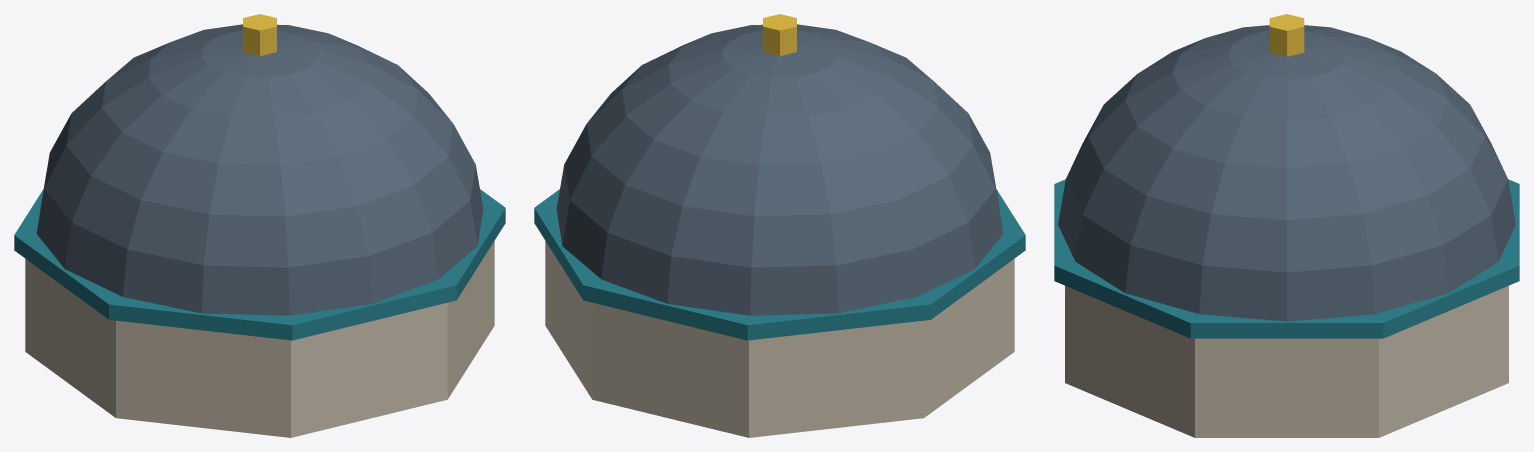
File: dome-lead.glb
The picture shows the model from 3 angles, left to right: view 1: azimuth 30°, elevation 25°; view 2: azimuth 150°, elevation 25°; view 3: azimuth 270°, elevation 25°; orthographic projection.
Visible parts, largest first — view 1: dome-lead; view 2: dome-lead; view 3: dome-lead.
Part boxes in pixels (left/top/right/bottom): dome-lead: left=14, top=14, right=505, bottom=437; dome-lead: left=534, top=14, right=1025, bottom=437; dome-lead: left=1054, top=14, right=1519, bottom=437.
Size of the model in its own units: 0.813 by 0.62 by 0.813.
